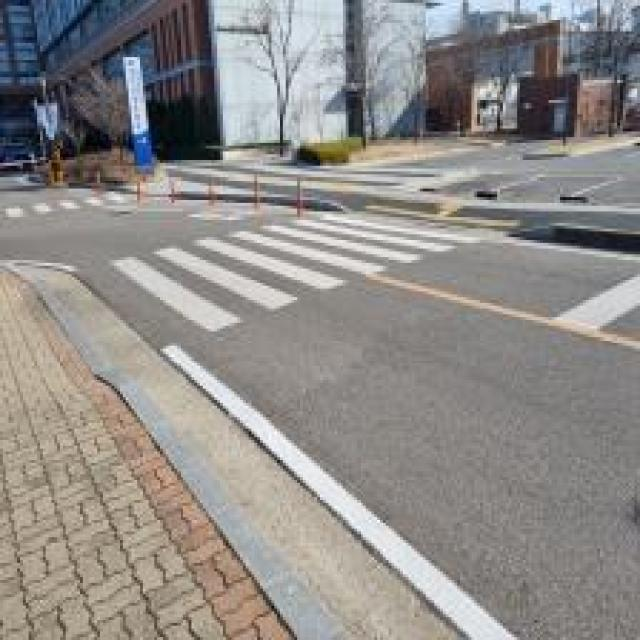walk-crossing: (104, 210, 490, 339), (0, 188, 137, 220)
